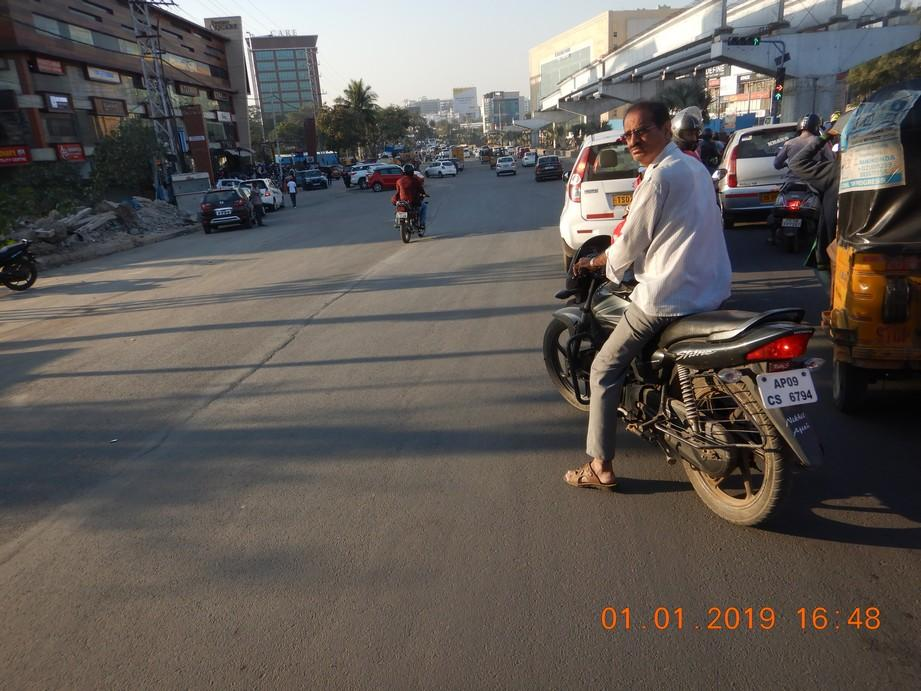plate: (759, 373, 817, 408)
